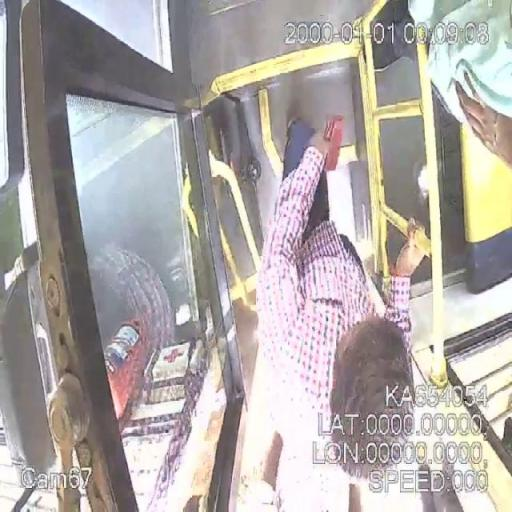persona: (240, 114, 431, 511)
